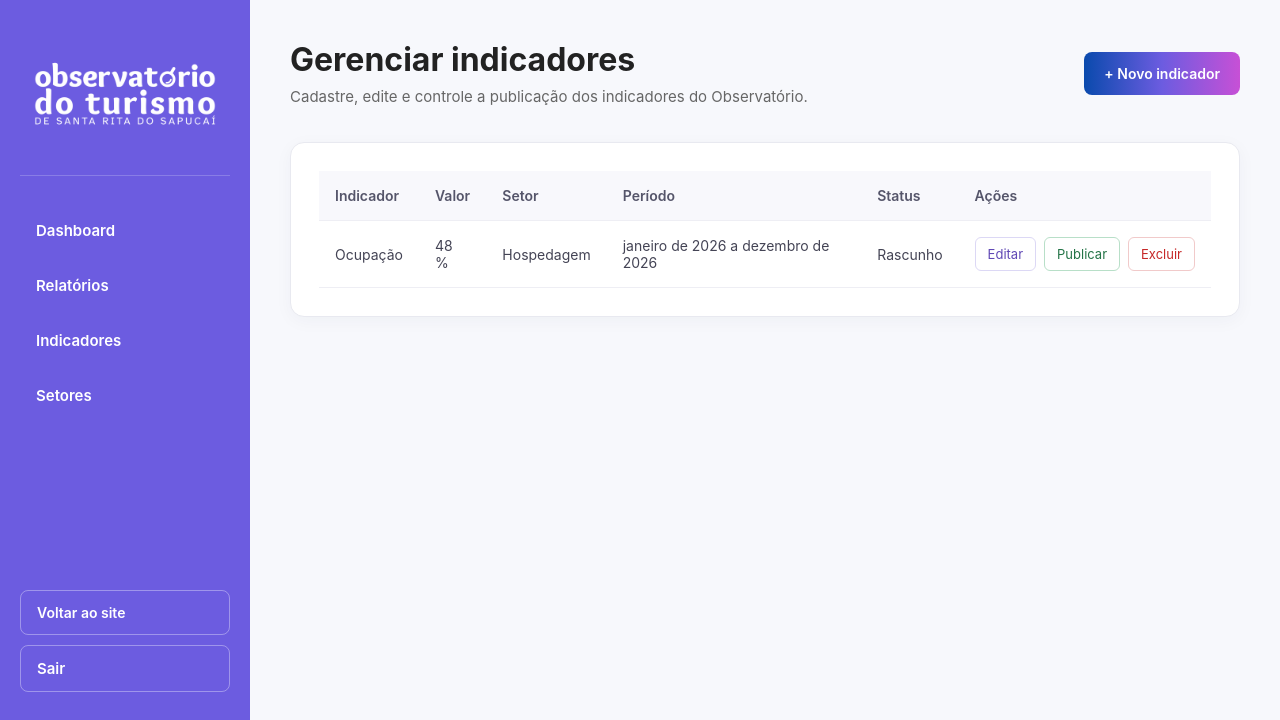
Scenario: Gerenciamento de indicadores › publica um indicador
Check: the text "Ocupação" is shown, box [319, 220, 419, 288]
Click the button "Publicar": (1082, 254) [1044, 237, 1120, 271]
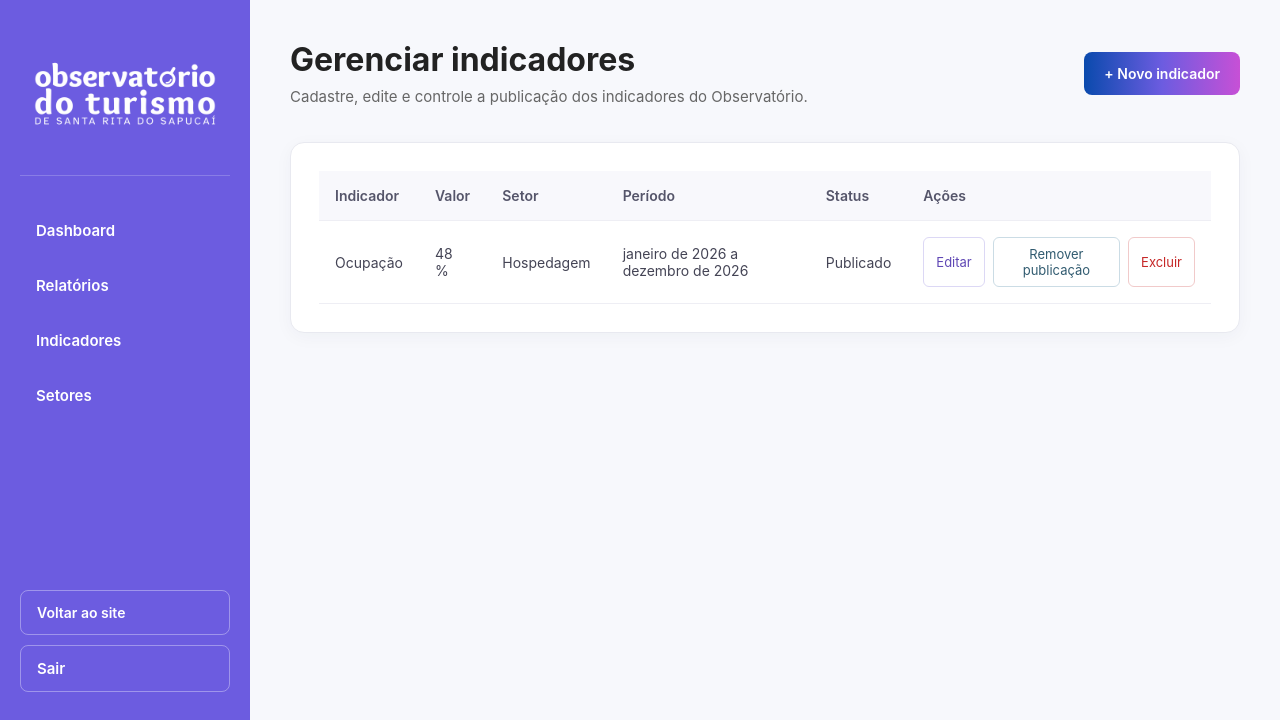
Check: the text "Publicado" is shown, box [810, 220, 907, 304]
